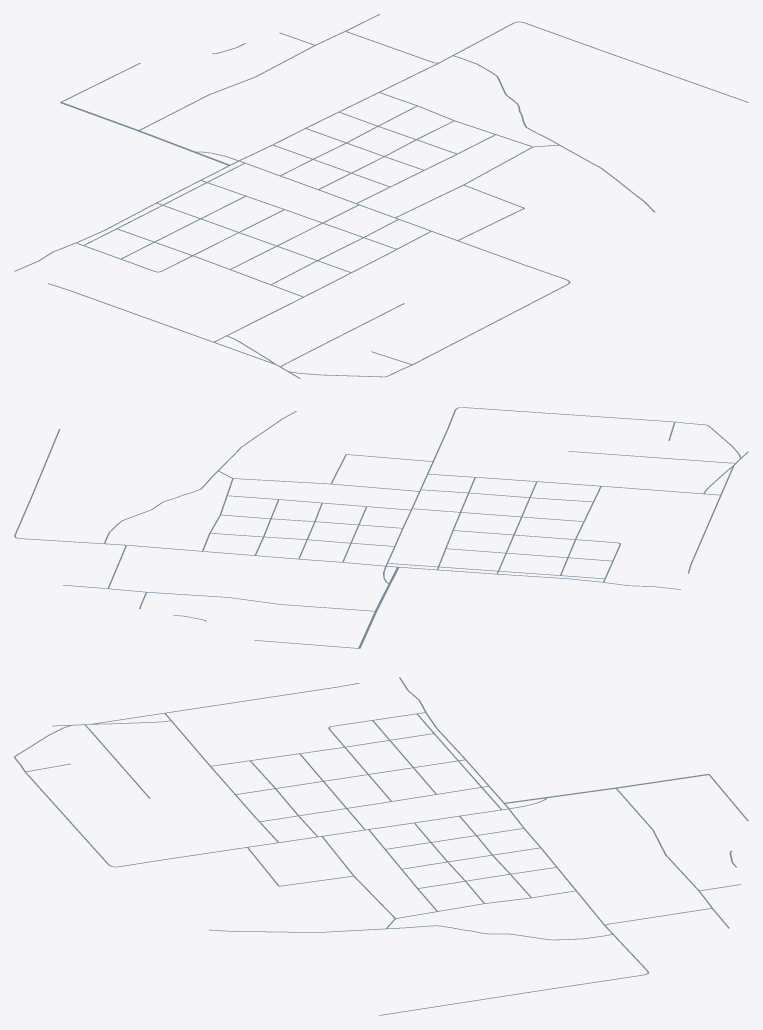
The picture shows the model from 3 angles, top to bottom: view 1: azimuth 30°, elevation 25°; view 2: azimuth 150°, elevation 25°; view 3: azimuth 270°, elevation 25°; orthographic projection. The views are drawn at different scales.
Bounding box in the file's own units: 1979 × 0 × 1815.
